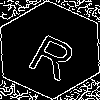R: (25, 25, 84, 82)
